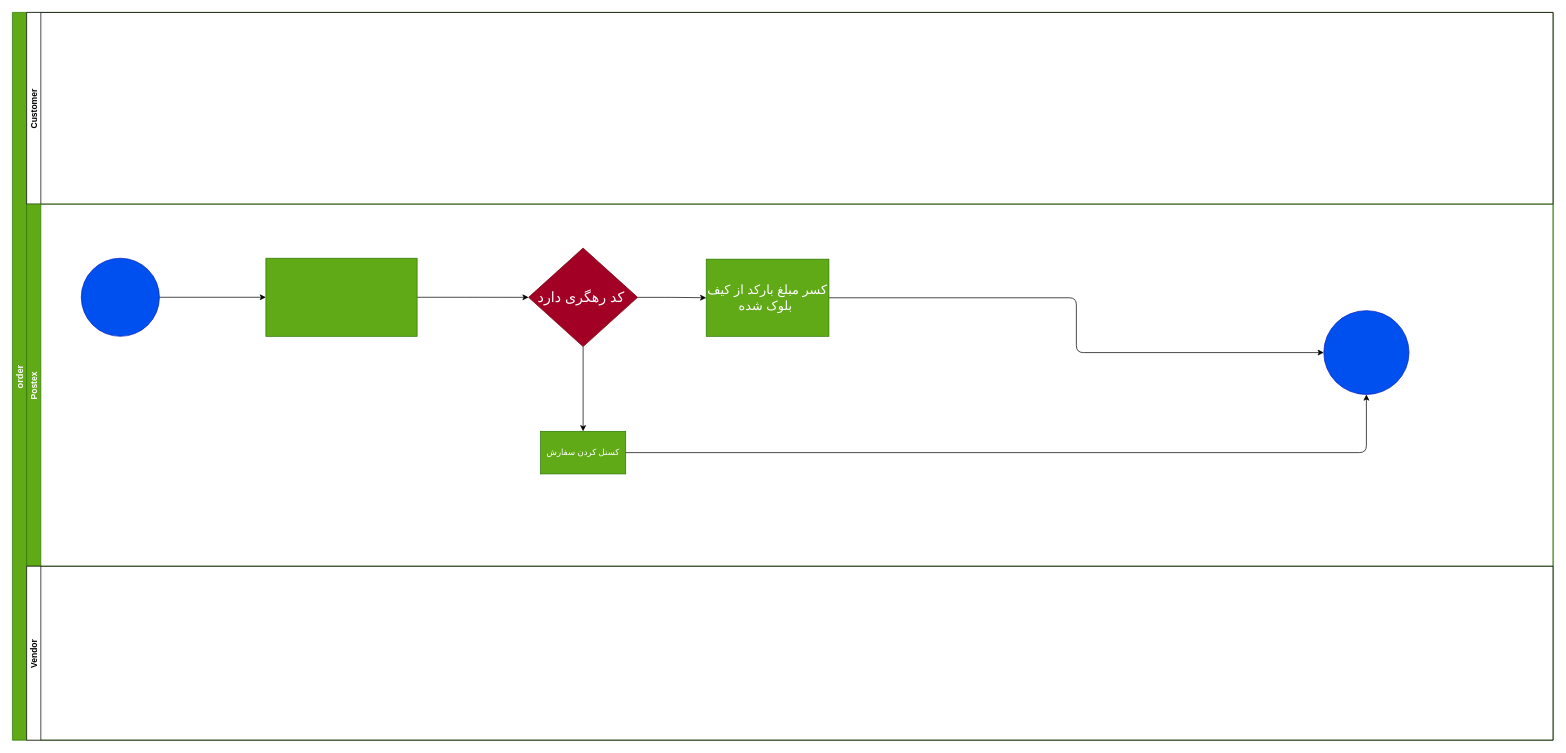
This 1566x753 diagram has some shape labels left out. Here are the shapes that lost their labels. From the top down, the centre of each, then its label:
At [120,297]: "شروع".
At [341,297]: "بررسی وضعیت سفارش".
At [1366,352]: "پایان".
